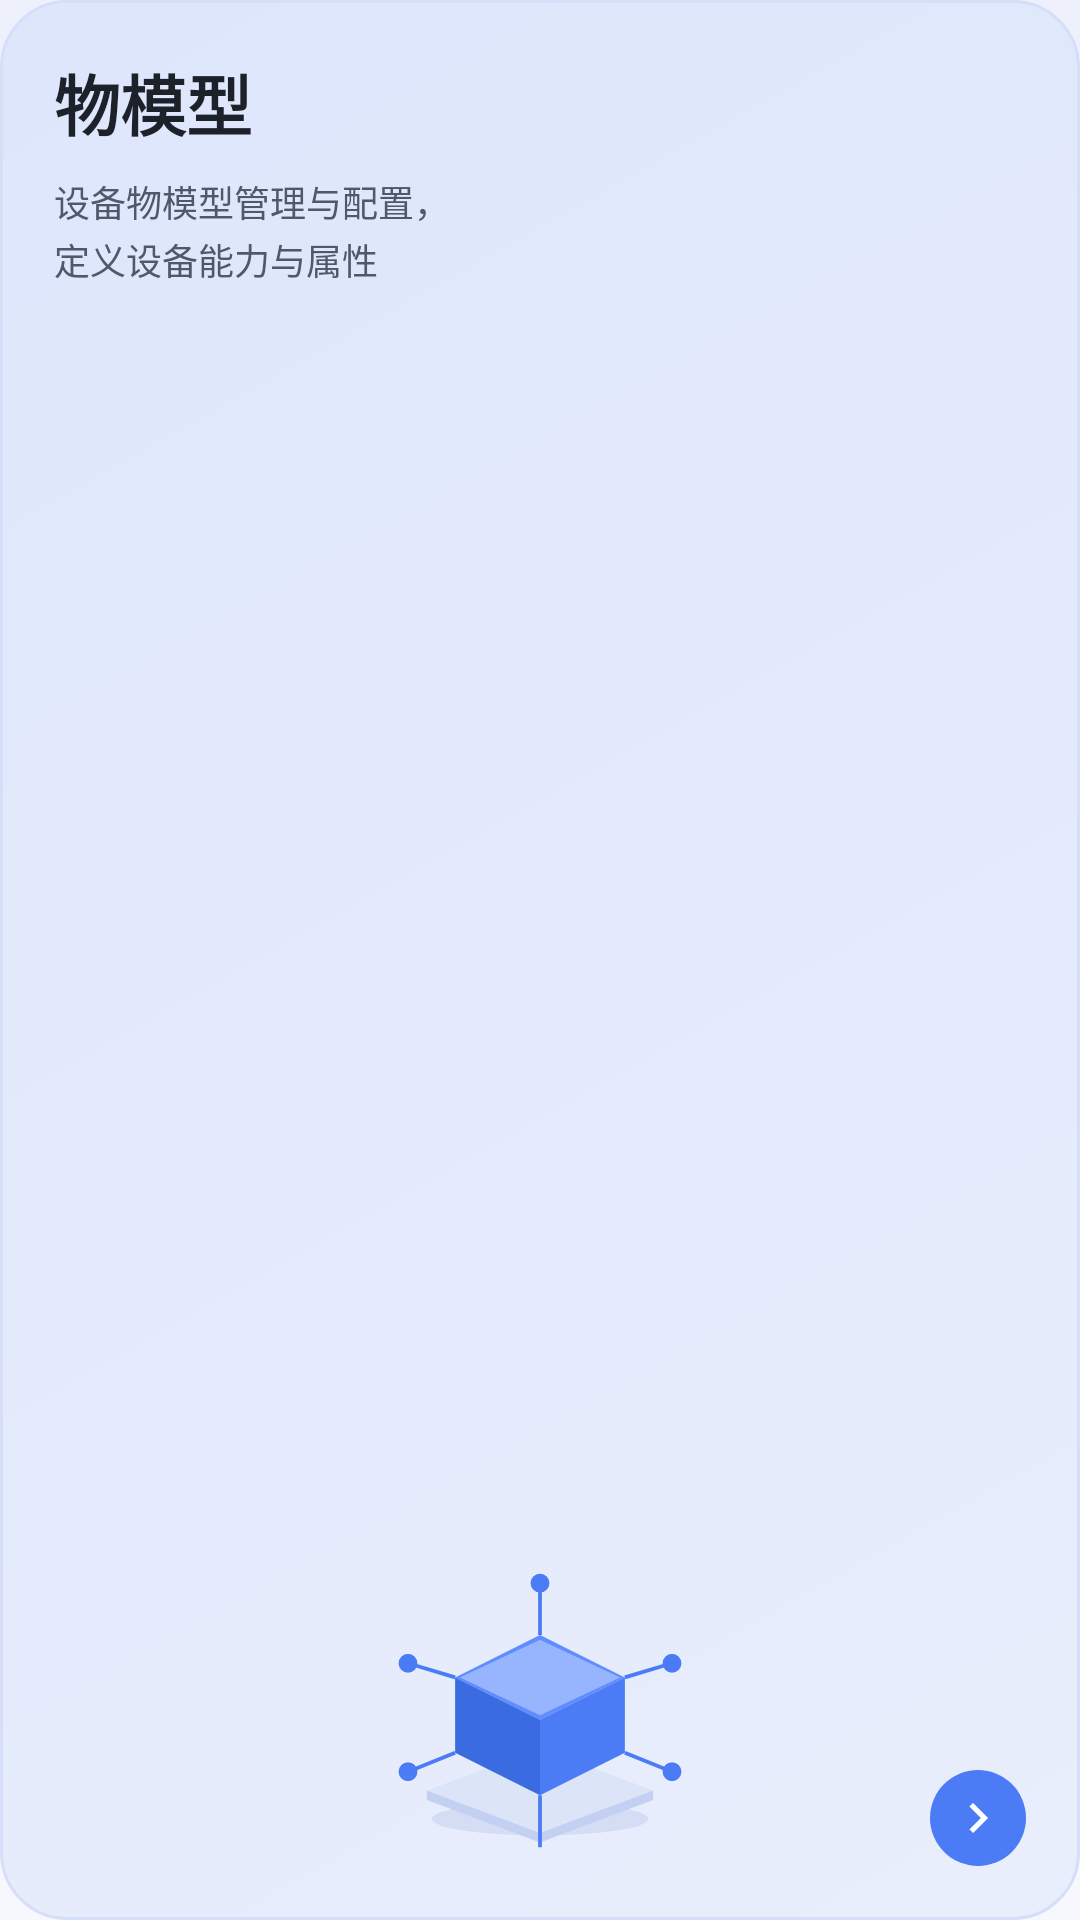

Where icons sit on this 1080w x 1920h app screen, as [x1, y1, x2, y2]:
home arrow right: [930, 1770, 1026, 1866]
home card thing model: [398, 1573, 682, 1848]
